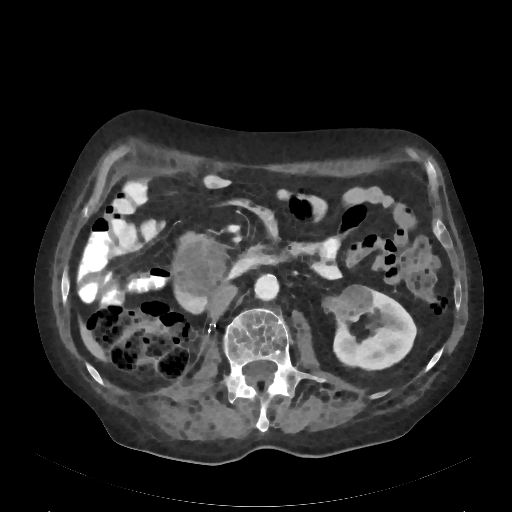Lesion: (323, 285, 374, 318)
